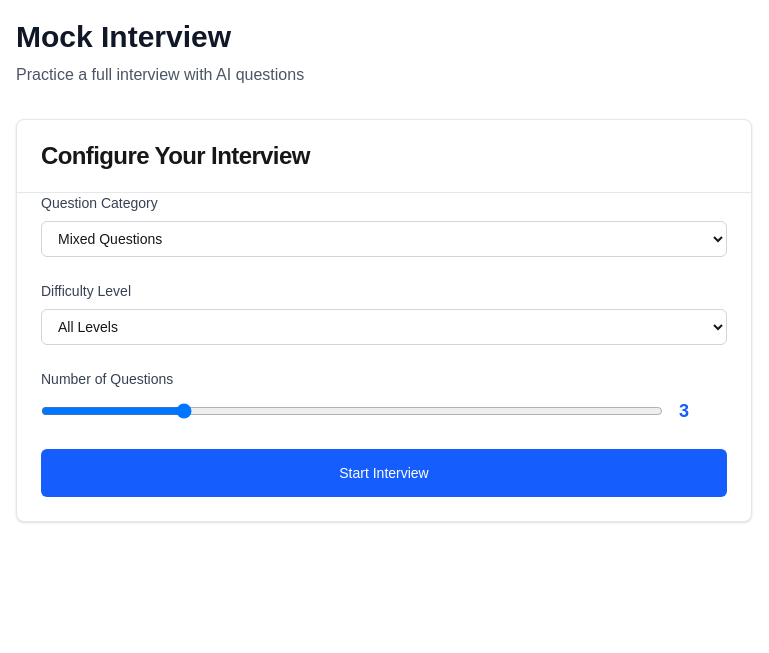
Scenario: page routes › runs a mock interview through to completion
The image size is (769, 653).
Expected: the heading "Mock Interview" is shown, 16,20 -> 231,53
Set the slider to "1" at (49, 411), box 41,403 -> 663,419
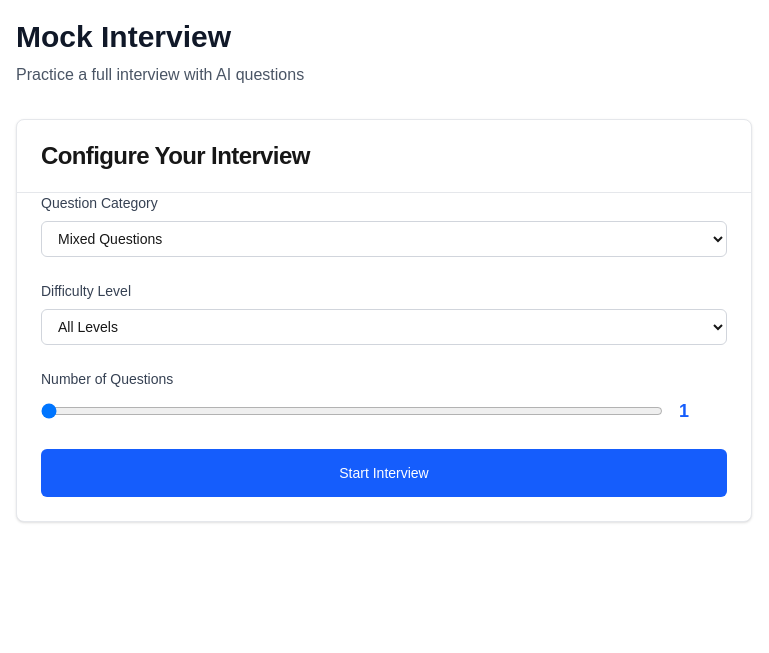
Click the button "Start Interview" at (384, 473), box 41,449 -> 727,497
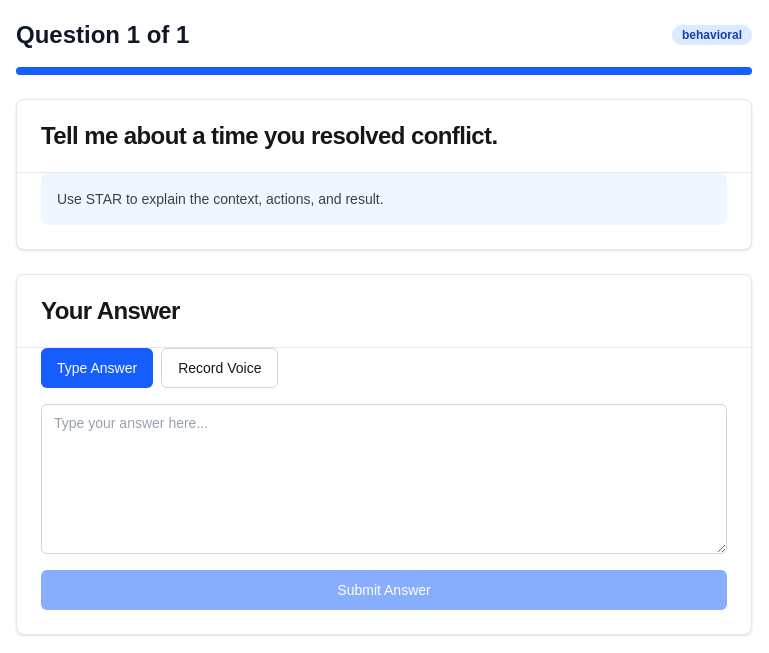
Expected: the heading "Question 1 of 1" is shown, 16,19 -> 189,51
Expected: the heading "Your Answer" is shown, 41,297 -> 180,324
Type "I resolved the conflict by aligning goals." into the text box with placeholder "Type your answer here..." at (384, 479), box 41,404 -> 727,554
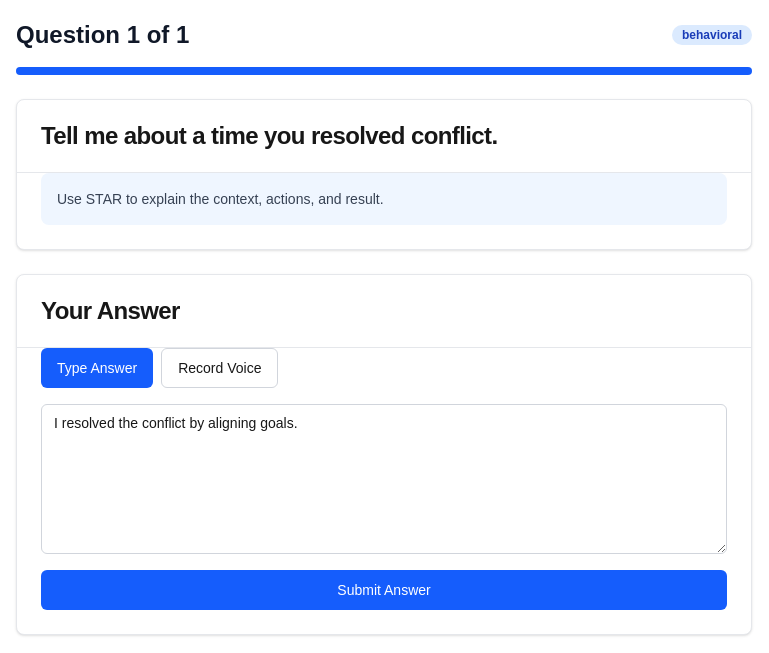
Click the button "Submit Answer" at (384, 590), box 41,570 -> 727,610
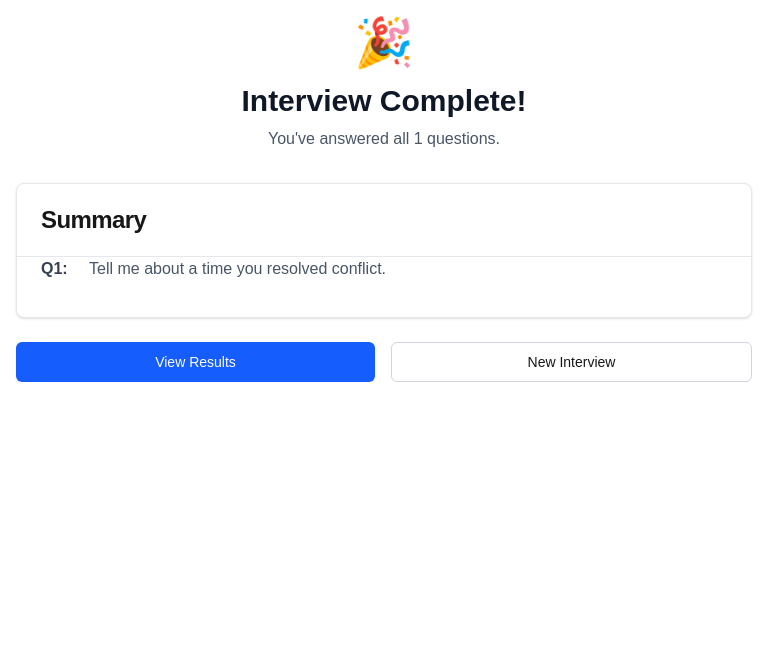
Expected: the heading "Interview Complete!" is shown, 242,84 -> 527,117
Expected: the button "View Results" is shown, 16,342 -> 375,382
